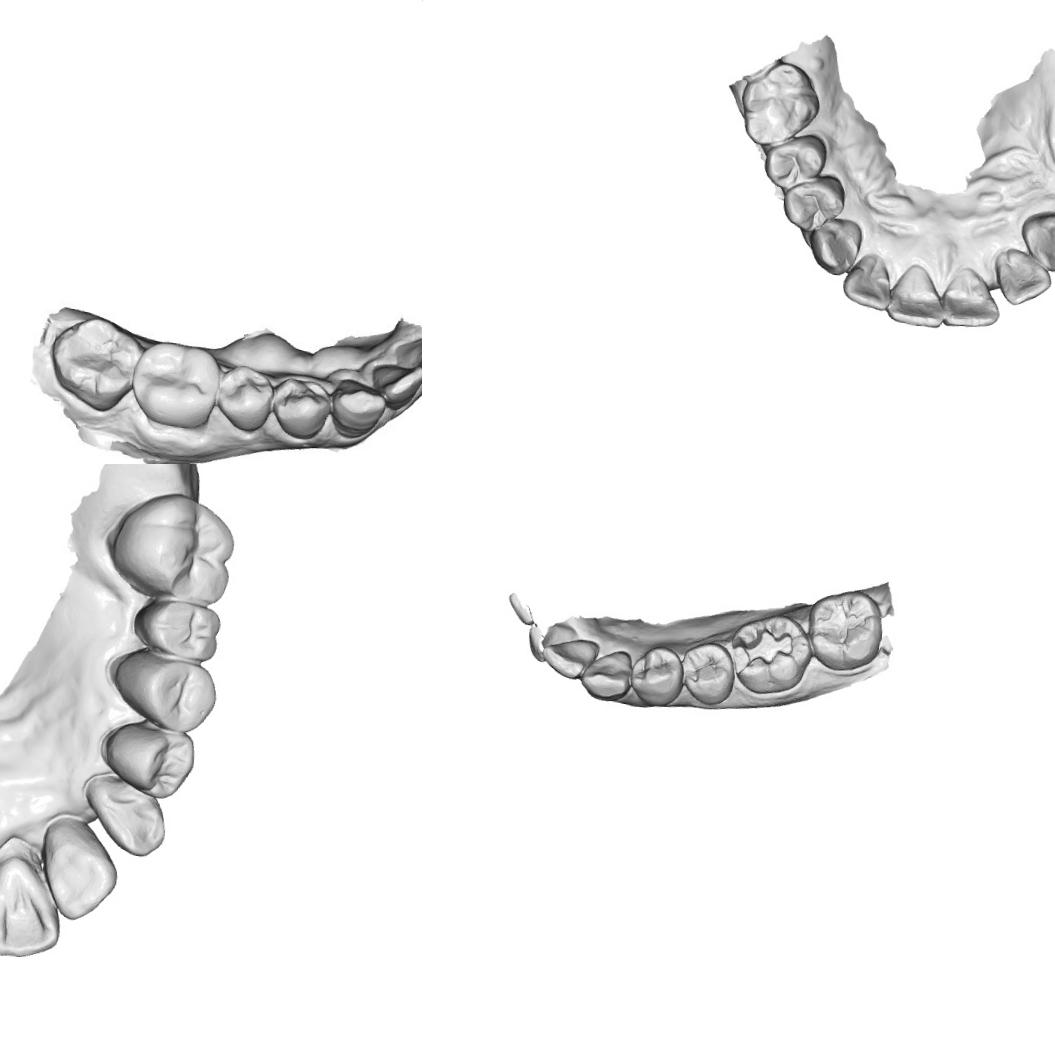canine: (82, 776, 168, 860), (804, 213, 864, 277), (329, 378, 385, 438), (577, 653, 631, 704), (1017, 208, 1055, 274)
incisor: (39, 822, 121, 922), (0, 855, 68, 960), (884, 260, 948, 328), (940, 264, 1003, 331), (991, 246, 1055, 307), (840, 250, 894, 311), (368, 359, 421, 412), (539, 635, 591, 682), (522, 618, 562, 663), (389, 330, 422, 377)
inlay: (728, 621, 796, 684)
molar: (105, 488, 246, 610), (46, 314, 139, 412), (130, 340, 219, 432), (737, 58, 823, 150), (803, 585, 885, 674), (130, 596, 228, 663)
premolar: (115, 652, 214, 730), (104, 718, 194, 800), (214, 361, 274, 435), (780, 170, 848, 235), (672, 638, 735, 708), (761, 129, 829, 193), (267, 375, 332, 441), (631, 645, 684, 704)
